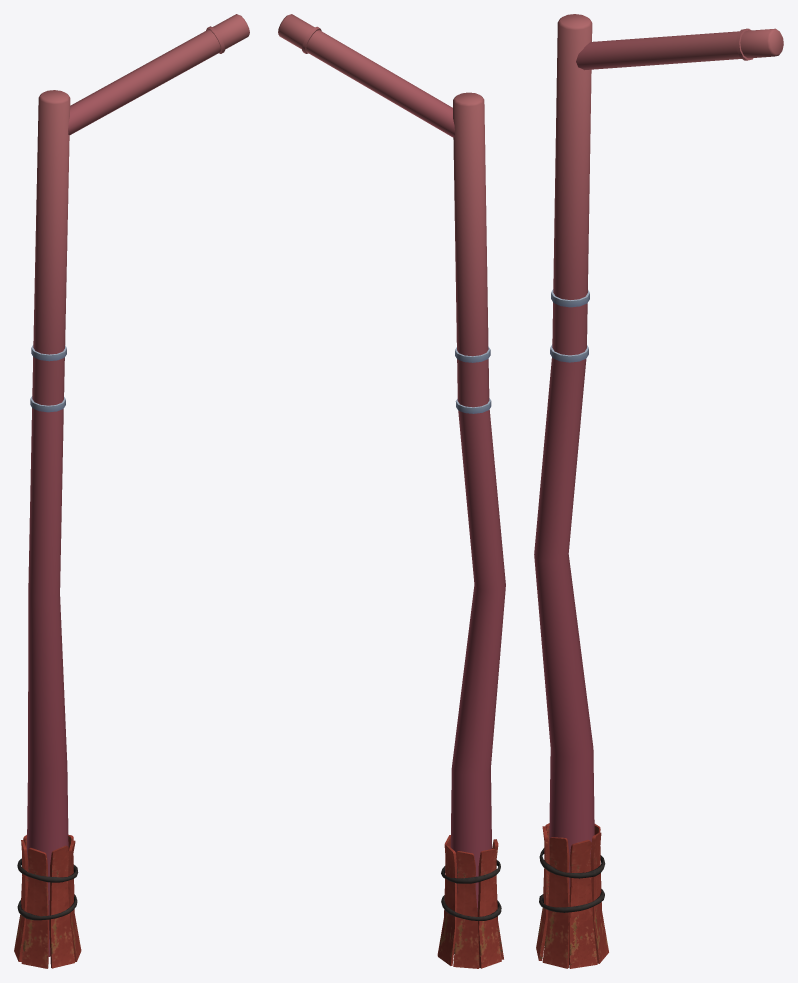
The model's file is Light_pillar.fbx.
The picture shows the model from 3 angles, left to right: view 1: azimuth 30°, elevation 25°; view 2: azimuth 150°, elevation 25°; view 3: azimuth 330°, elevation 25°; orthographic projection. The views are drawn at different scales.
Parts seen in each view (by area): view 1: SM_Electric_Pillar_01.004; view 2: SM_Electric_Pillar_01.004; view 3: SM_Electric_Pillar_01.004.
Boxes of the visible parts, <box> form: SM_Electric_Pillar_01.004: <box>14,14,249,968</box>; SM_Electric_Pillar_01.004: <box>278,14,505,968</box>; SM_Electric_Pillar_01.004: <box>534,14,783,968</box>.
Bounding box in the file's own units: 221 × 842 × 56.01.
